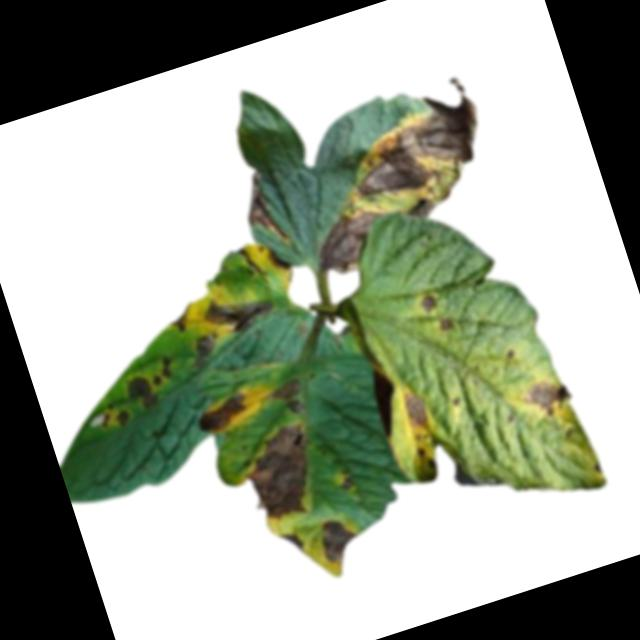Early_blight: (329, 74, 498, 216), (234, 417, 331, 527), (307, 206, 399, 282), (199, 281, 280, 347), (233, 168, 287, 253), (516, 369, 574, 424), (189, 388, 253, 437), (312, 511, 362, 566), (261, 373, 310, 423), (400, 189, 454, 225), (396, 384, 433, 436), (181, 329, 224, 368), (120, 371, 160, 412), (96, 398, 132, 433), (162, 304, 198, 337), (145, 352, 177, 387), (277, 525, 307, 559), (264, 244, 292, 273), (413, 290, 439, 317), (334, 464, 356, 491), (434, 313, 453, 333)
